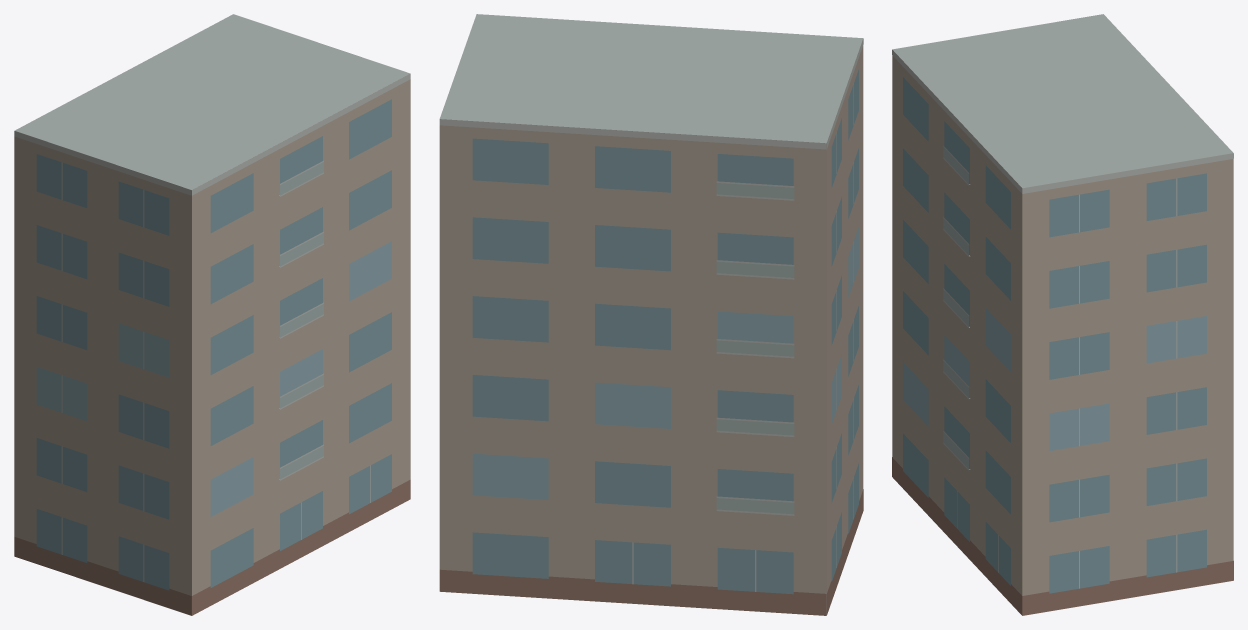
Rendered from survey-upis-33018882.glb.
3 renders of one model, left to right at view 1: azimuth 30°, elevation 25°; view 2: azimuth 150°, elevation 25°; view 3: azimuth 270°, elevation 25°, orthographic. The views are drawn at different scales.
Parts seen in each view (by area): view 1: survey-upis-33018882.tmp; view 2: survey-upis-33018882.tmp; view 3: survey-upis-33018882.tmp.
Part boxes in pixels (box(x1,y1,x2,y2)): survey-upis-33018882.tmp: box(14, 14, 410, 615); survey-upis-33018882.tmp: box(439, 14, 863, 615); survey-upis-33018882.tmp: box(892, 14, 1233, 615).
Size of the model in its own units: 16.1 by 18.4 by 13.33.
